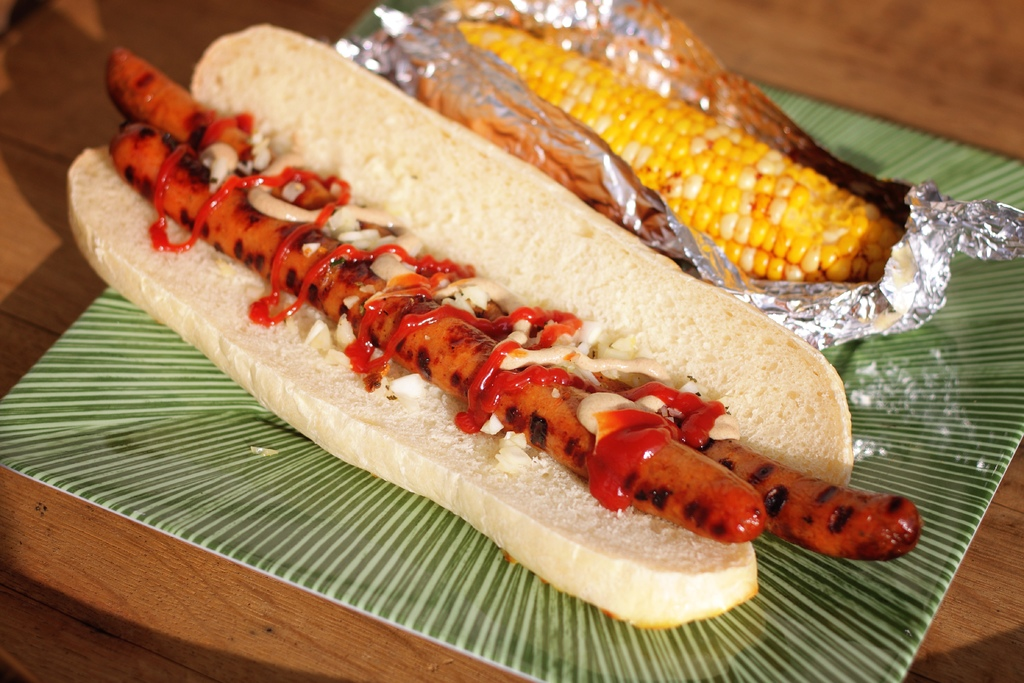hot_dog: (52, 21, 926, 636)
